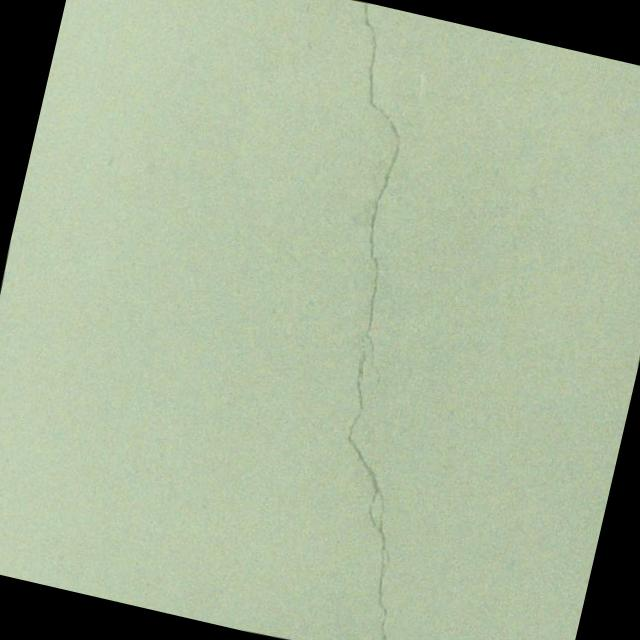crack: (219, 1, 540, 640), (288, 0, 339, 83)
